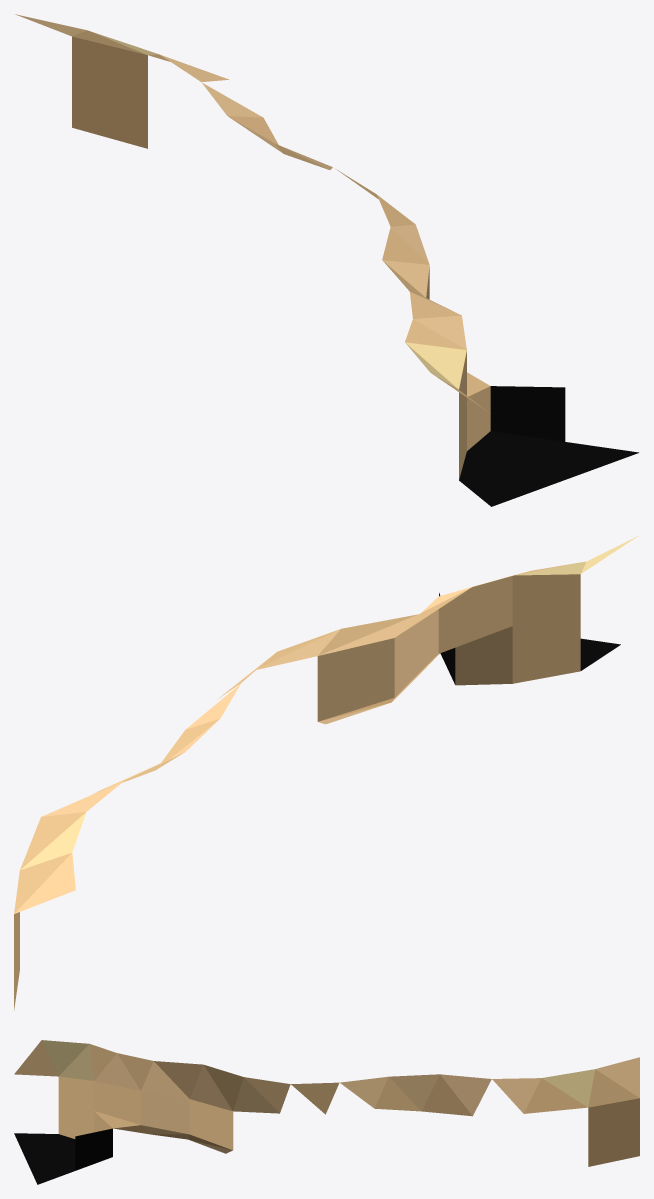
The picture shows the model from 3 angles, top to bottom: view 1: azimuth 30°, elevation 25°; view 2: azimuth 150°, elevation 25°; view 3: azimuth 270°, elevation 25°; orthographic projection. The views are drawn at different scales.
Visible parts, largest first — view 1: O31AC0; view 2: O31AC0; view 3: O31AC0.
Part boxes in pixels (bbox=[...]): O31AC0: bbox=[15, 14, 638, 506]; O31AC0: bbox=[14, 535, 638, 1010]; O31AC0: bbox=[14, 1040, 639, 1184].
Size of the model in its own units: 32.1 by 19 by 133.
